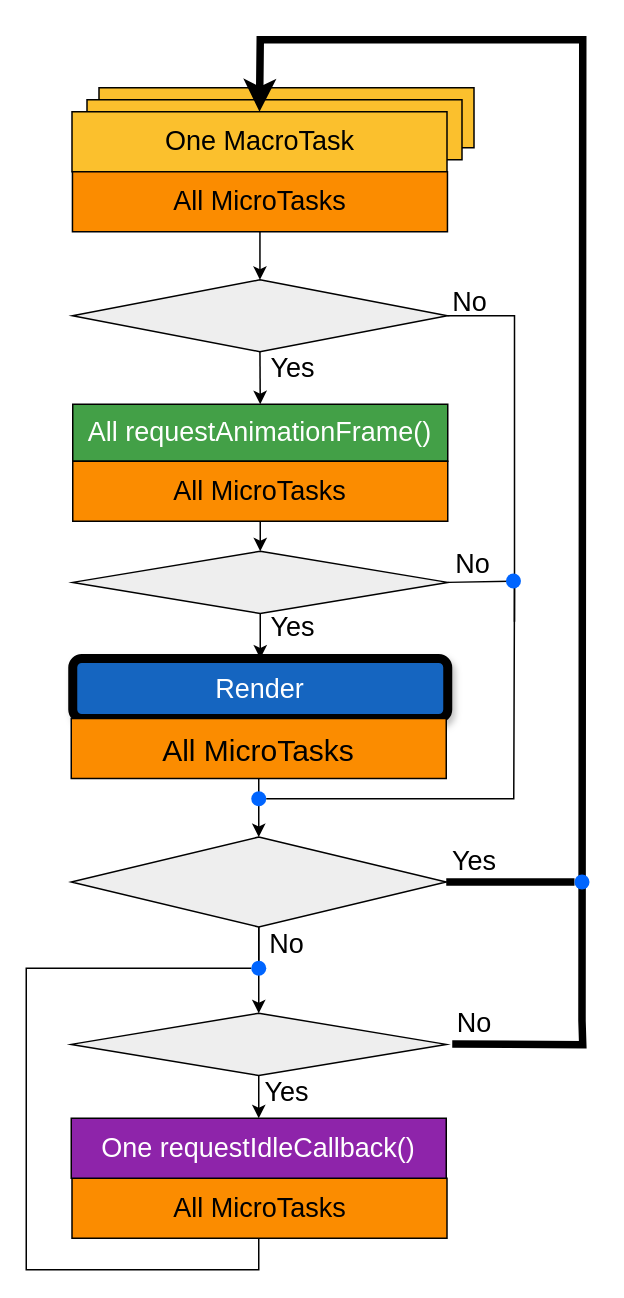
This 624x1298 diagram has some shape labels left out. The shapes that lost their labels are listed below. From the top down, each one's centre as x and y in pixels, then its label:
[259,315]: Next Frame?
[259,582]: Render?
[258,881]: Any Macrotasks?
[258,1044]: Free time?*
